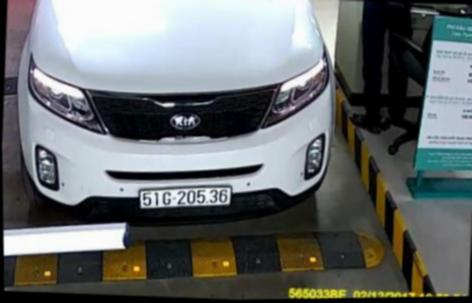License_Plate: (131, 180, 238, 219)
